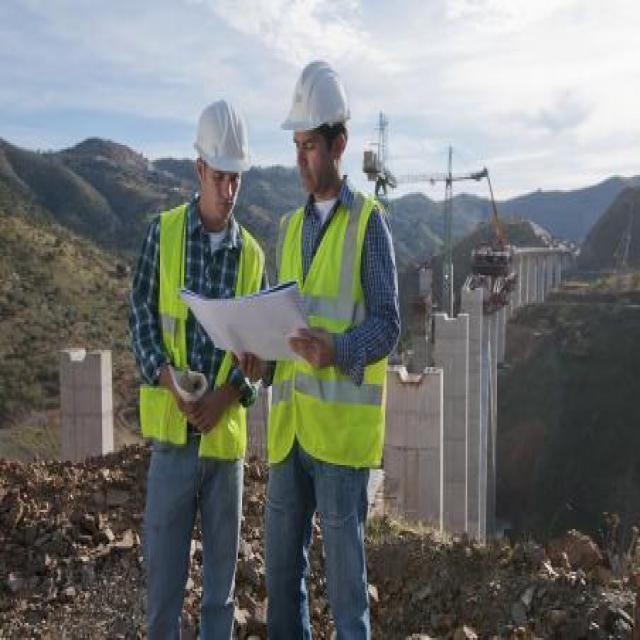hat: (285, 55, 360, 207), (193, 94, 253, 232)
